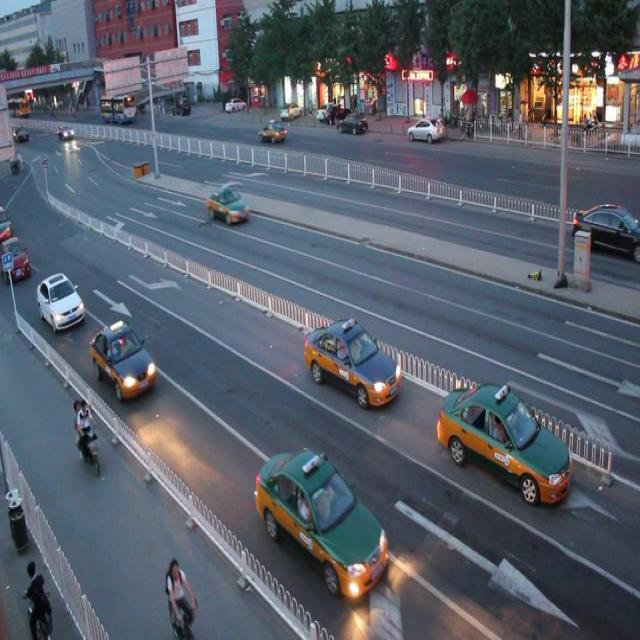car: (427, 360, 584, 536), (252, 438, 389, 618), (294, 295, 409, 424), (85, 307, 172, 423), (575, 184, 640, 275), (205, 182, 256, 242)
